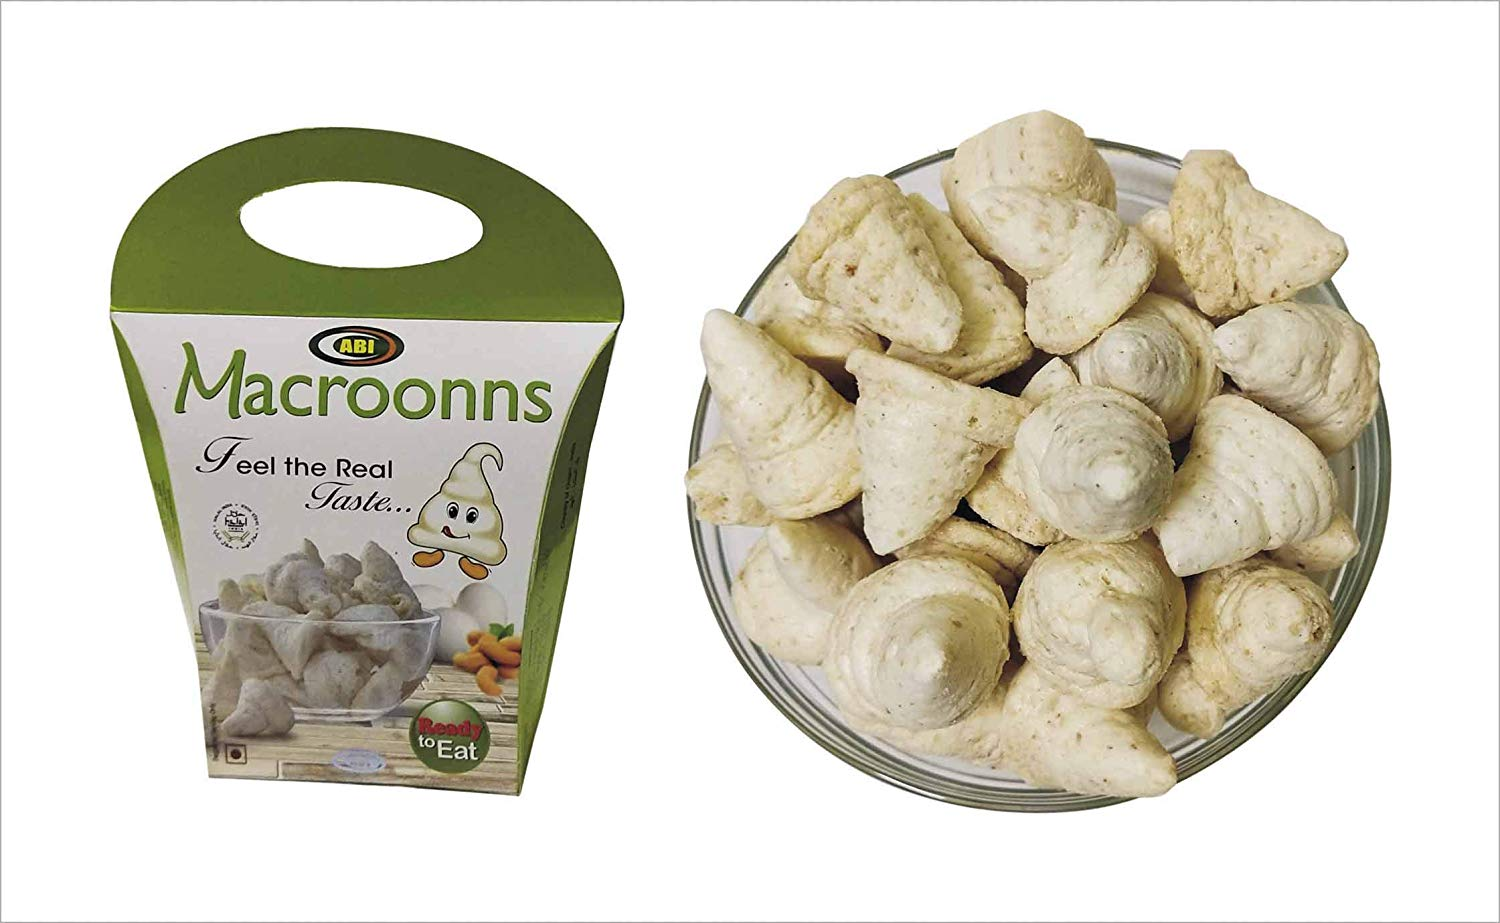nonveg_red: (224, 741, 247, 766)
